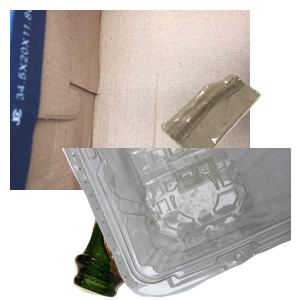cardboard: (10, 10, 250, 190)
glass: (71, 152, 260, 300)
plastic: (60, 148, 300, 300)
trash: (158, 71, 300, 227)
